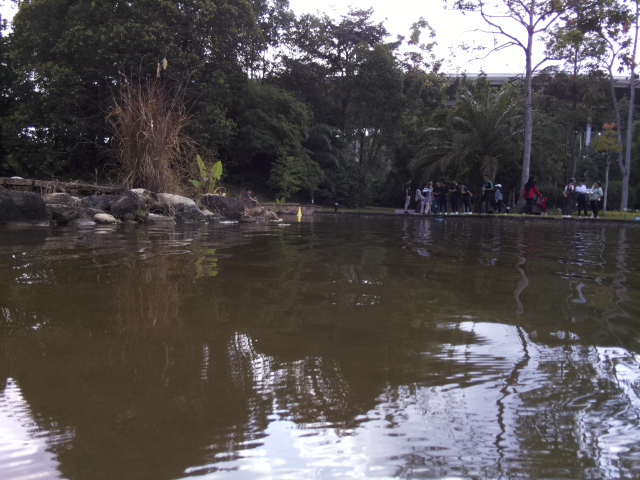checkpoint: (296, 206, 303, 217)
